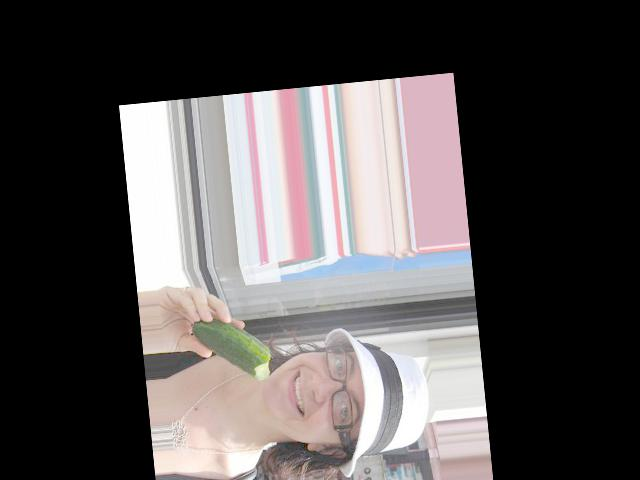cucumber: (190, 312, 272, 385)
